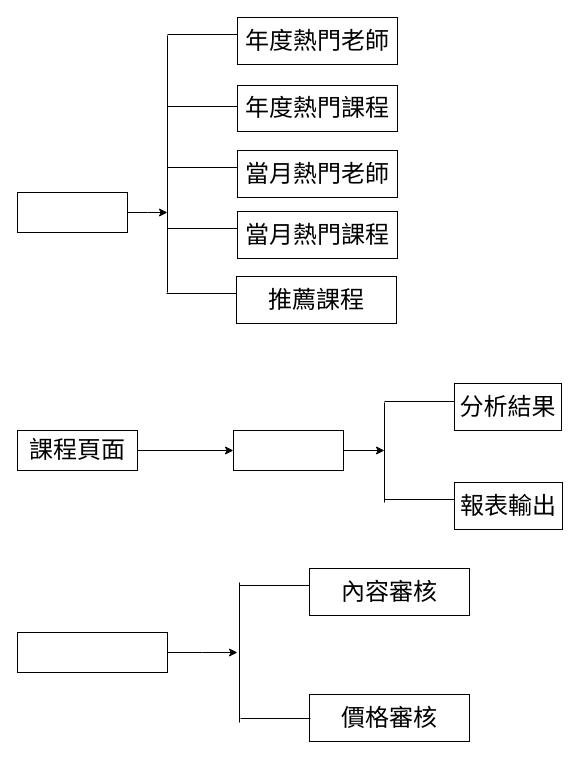
This 580x759 diagram has some shape labels left out. Here are the shapes that lost their labels. From the top down, the centre of each, then its label:
point 72,212: 首頁
point 288,450: 選課分析
point 92,652: 課程審核頁面
